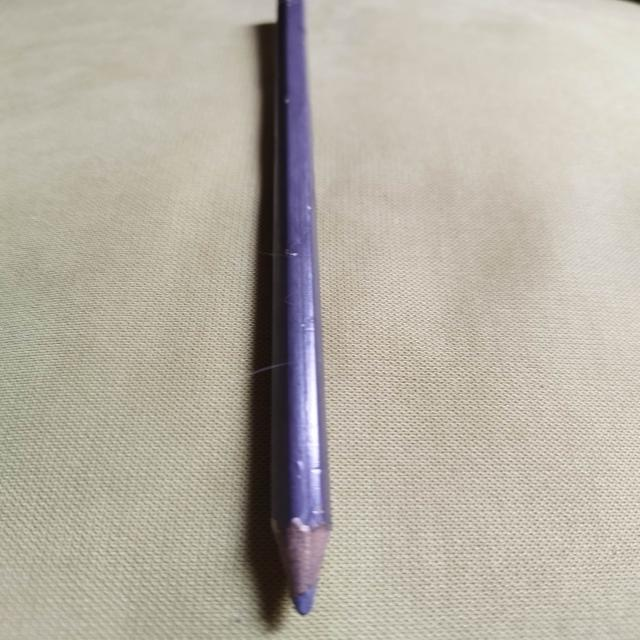pencil: (274, 1, 330, 616)
